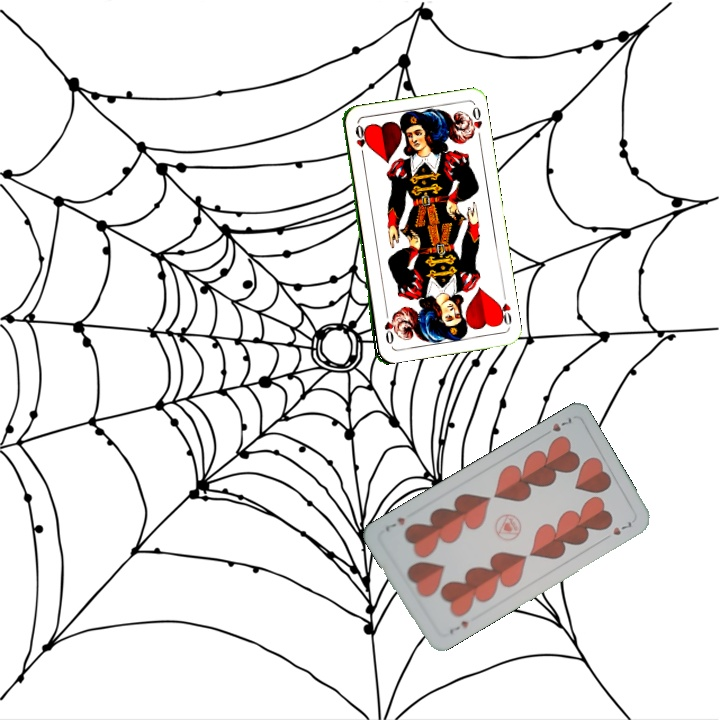H7: (538, 413, 574, 440), (445, 616, 471, 637)
HO: (493, 298, 514, 329), (351, 121, 367, 161)
